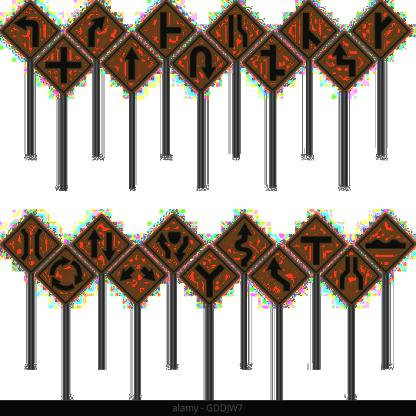U-turn: (174, 35, 230, 89)
